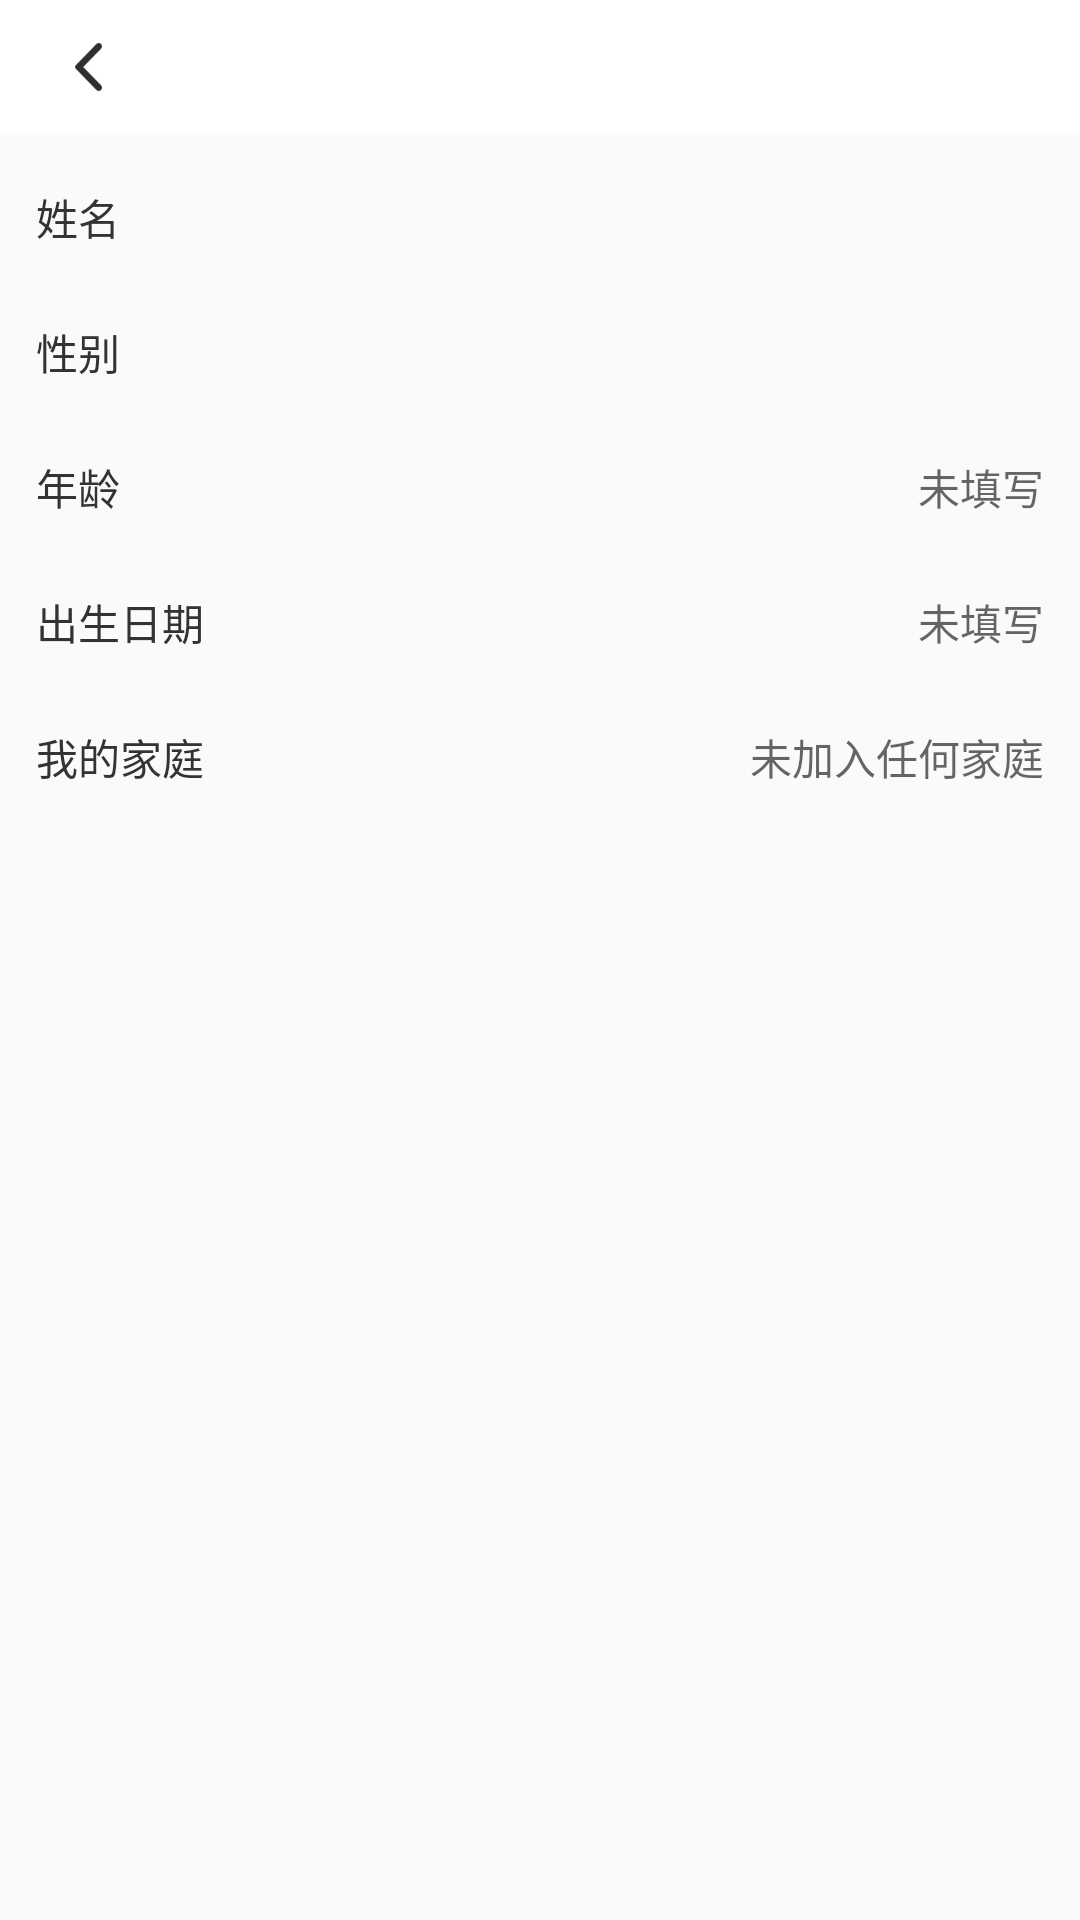

Screen size 1080x1920. Icon name, then its box in pixels as Rect(x1, y1, x2, y2):
back: Rect(75, 43, 102, 91)
